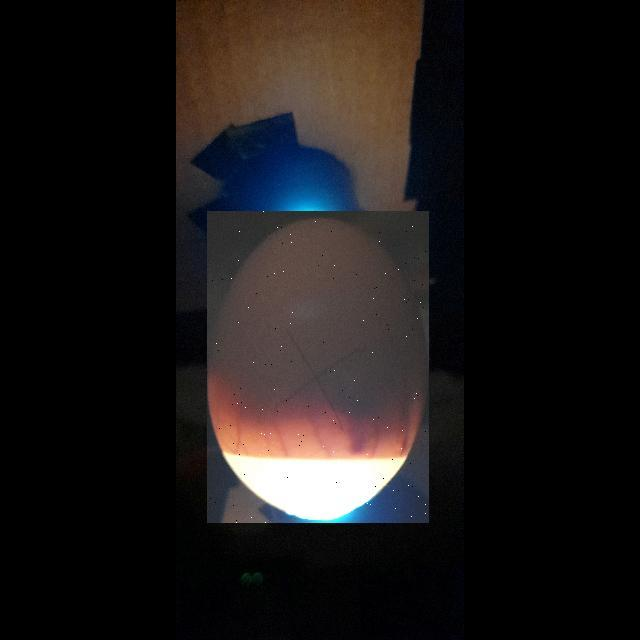Fertile: (207, 211, 429, 523)
